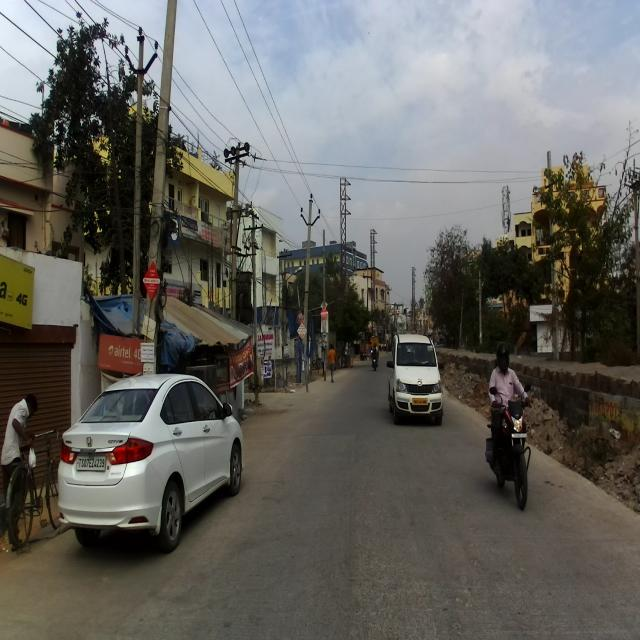bicycle ahead at: (3, 450, 61, 552)
car ahead at: (62, 368, 245, 548), (387, 332, 444, 424)
motorcycle ahead at: (485, 382, 538, 504)
